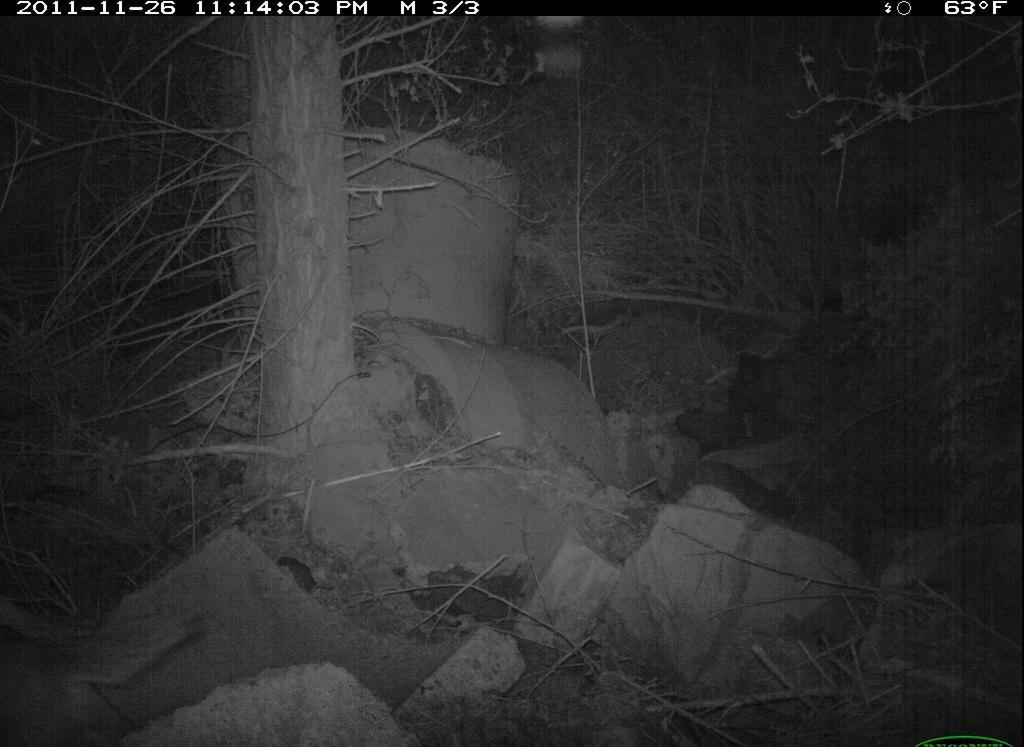coyote: (1, 600, 217, 747)
